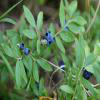Blueberry leaf: (77, 74, 98, 99), (5, 34, 23, 61), (72, 37, 83, 71), (66, 19, 88, 36), (12, 59, 22, 94), (22, 6, 36, 28), (37, 57, 53, 74), (82, 53, 98, 70), (37, 7, 48, 31), (30, 61, 39, 86), (59, 1, 67, 27), (60, 52, 70, 72), (21, 29, 36, 41), (68, 71, 75, 94), (37, 35, 42, 60)
